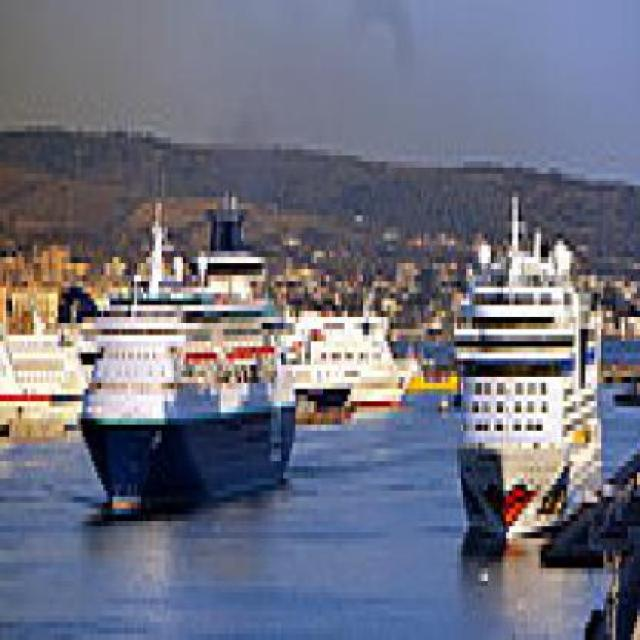cruise: (68, 174, 316, 522), (440, 180, 623, 576)
